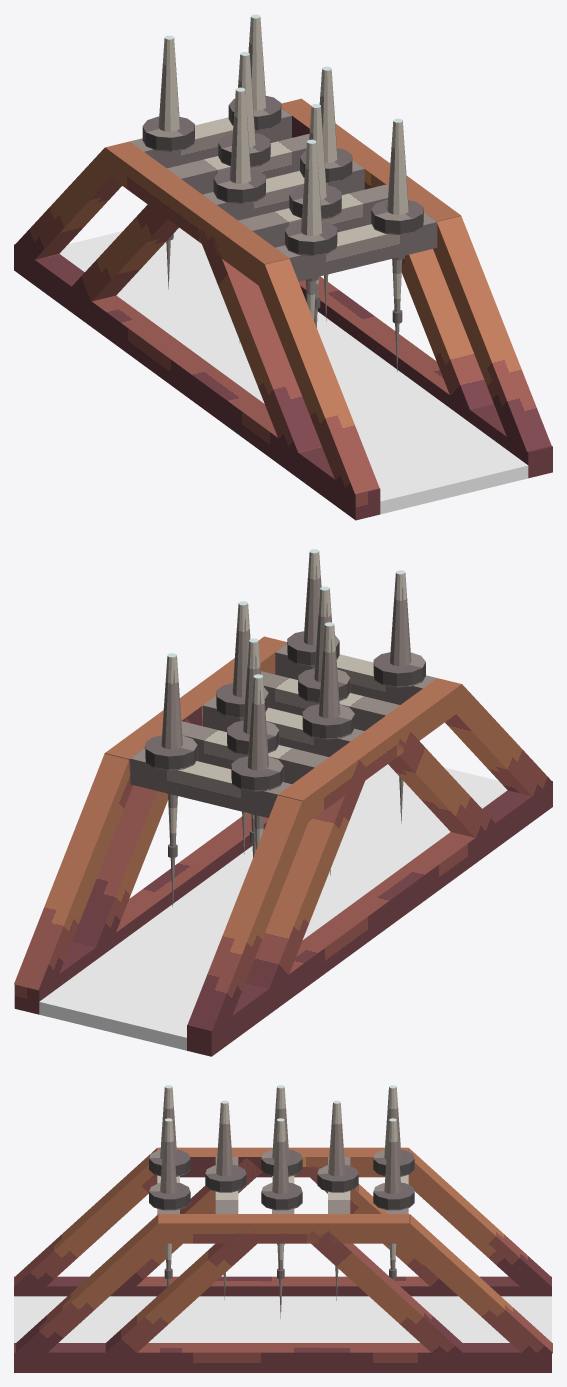
The model's file is RustyWheatInjector.glb.
The picture shows the model from 3 angles, top to bottom: view 1: azimuth 30°, elevation 25°; view 2: azimuth 150°, elevation 25°; view 3: azimuth 270°, elevation 25°; orthographic projection. The views are drawn at different scales.
Parts seen in each view (by area): view 1: cuboid (×3), Belt, cube (×2), Spike (×8); view 2: cuboid (×3), Belt, cube (×2), Spike (×8); view 3: cuboid (×3), cube (×2), Belt, Spike (×8).
Part boxes in pixels (left/top/right/bottom): cuboid (×3): left=14, top=98, right=551, bottom=505; Belt: left=59, top=227, right=528, bottom=514; cube (×2): left=14, top=244, right=552, bottom=520; Spike (×8): left=142, top=14, right=423, bottom=371; cuboid (×3): left=14, top=636, right=552, bottom=1041; Belt: left=39, top=764, right=507, bottom=1050; cube (×2): left=14, top=781, right=552, bottom=1056; Spike (×8): left=145, top=549, right=425, bottom=906; cuboid (×3): left=15, top=1147, right=552, bottom=1366; cube (×2): left=14, top=1276, right=551, bottom=1372; Belt: left=14, top=1296, right=551, bottom=1342; Spike (×8): left=149, top=1085, right=414, bottom=1318.
Size of the model in its own units: 1 by 1.42 by 3.
Materials: 2 (1 with a texture image).
